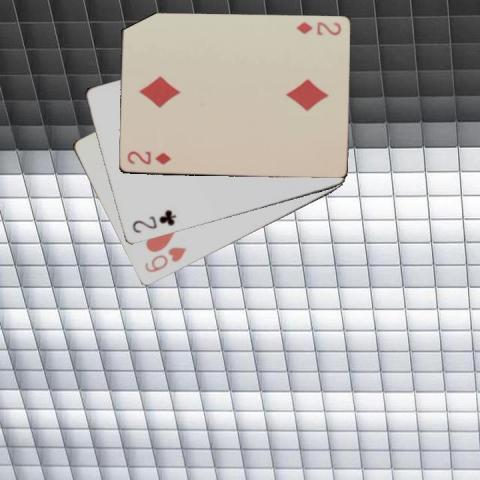2c: (129, 208, 177, 236)
2d: (292, 19, 342, 38), (124, 148, 171, 166)
6h: (141, 244, 189, 275)
